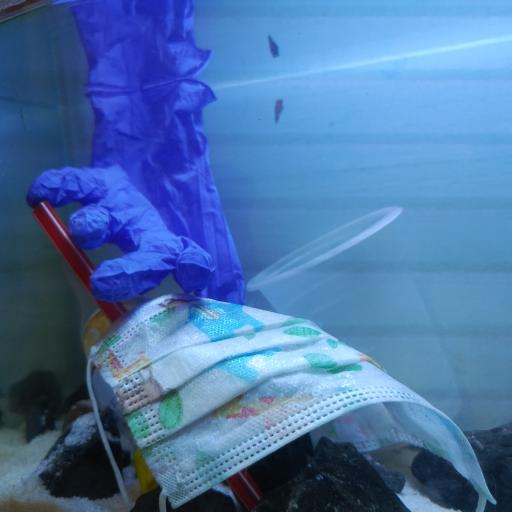bottle_cap: (133, 454, 155, 490)
glove: (28, 79, 247, 303)
mask: (86, 291, 494, 512)
plastic_bottle: (60, 249, 160, 493)
plastic_cup: (248, 205, 465, 431)
plastic_straw: (33, 199, 262, 505)
